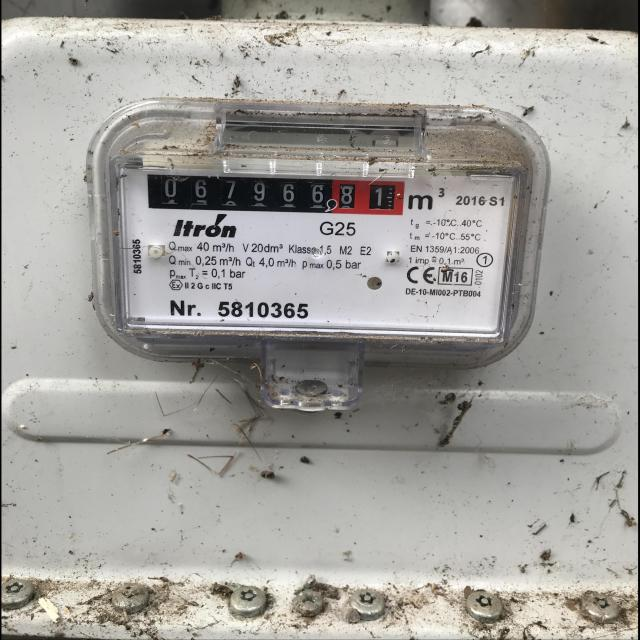gaz_meter: (93, 102, 510, 348)
indication: (147, 173, 404, 218)
